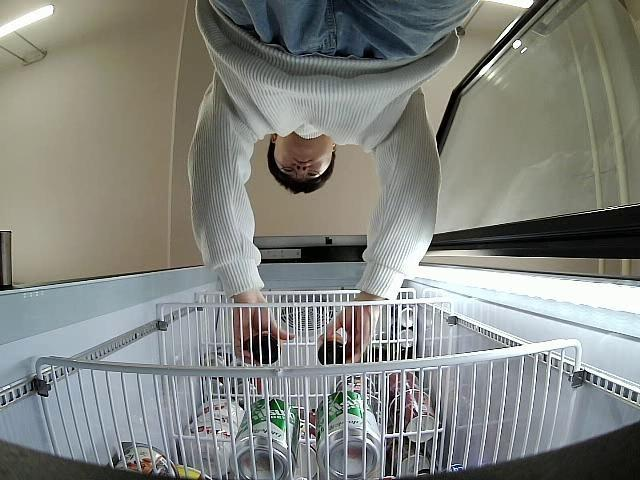17_vita500: (252, 328, 282, 364), (317, 329, 346, 366)
